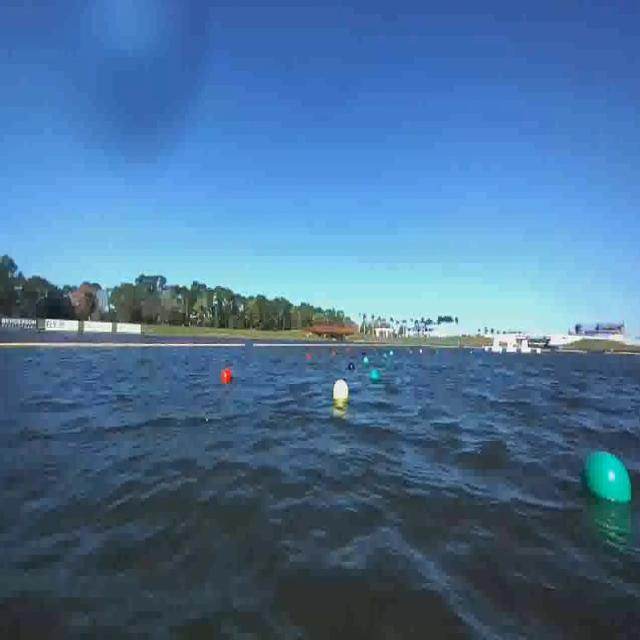black-buoy: (347, 363, 353, 371)
green-buoy: (578, 448, 633, 506)
red-buoy: (221, 366, 232, 384)
yellow-buoy: (334, 376, 350, 404)
